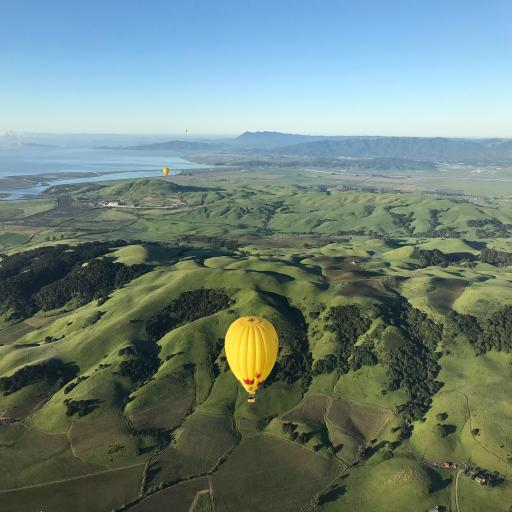hot air ballon: (224, 312, 284, 407), (162, 164, 172, 180)
